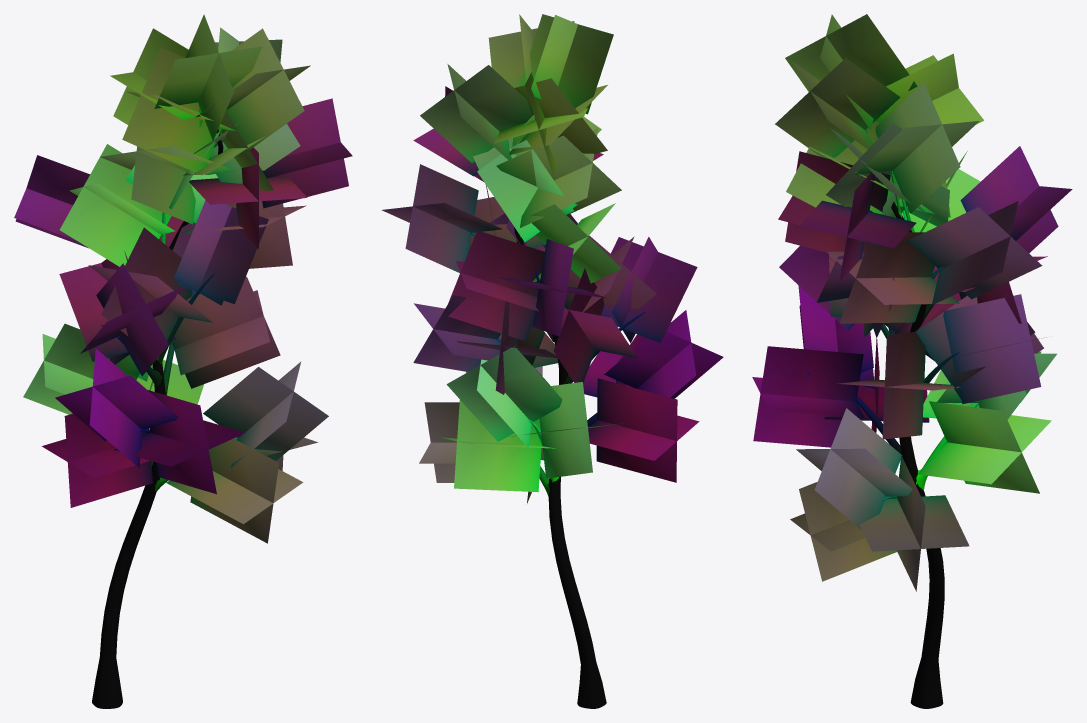
File: URP_P5_Tree_5_LOD_0.fbx
3 views of the same model, side by side, from view 1: azimuth 30°, elevation 25°; view 2: azimuth 150°, elevation 25°; view 3: azimuth 270°, elevation 25° (orthographic). The views are drawn at different scales.
Parts seen in each view (by area): view 1: Tree_5_LOD_0; view 2: Tree_5_LOD_0; view 3: Tree_5_LOD_0.
Boxes of the visible parts, x1=… form: Tree_5_LOD_0: x1=14, y1=14, x2=352, y2=708; Tree_5_LOD_0: x1=381, y1=14, x2=723, y2=708; Tree_5_LOD_0: x1=752, y1=14, x2=1072, y2=708.
Size of the model in its own units: 288 by 664 by 267.
